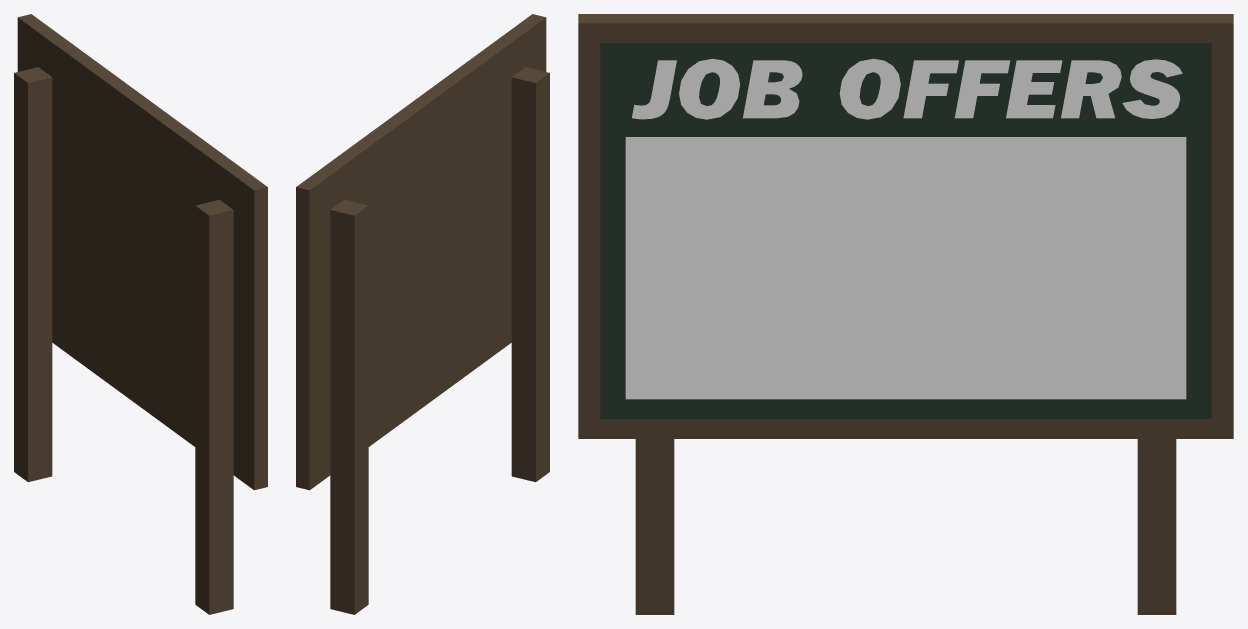
Rendered from SM_billboard_jobOffers.gltf.
3 views of the same model, side by side, from view 1: azimuth 30°, elevation 25°; view 2: azimuth 150°, elevation 25°; view 3: azimuth 270°, elevation 25° (orthographic). The views are drawn at different scales.
Visible parts, largest first — view 1: SM_billboard_jobOffers; view 2: SM_billboard_jobOffers; view 3: SM_billboard_jobOffers.
Boxes of the visible parts, x1=… form: SM_billboard_jobOffers: x1=14, y1=14, x2=267, y2=614; SM_billboard_jobOffers: x1=296, y1=14, x2=549, y2=614; SM_billboard_jobOffers: x1=578, y1=14, x2=1233, y2=614.
Bounding box in the file's own units: 0.218 × 2.28 × 2.25.
1 material, 1 textured.
